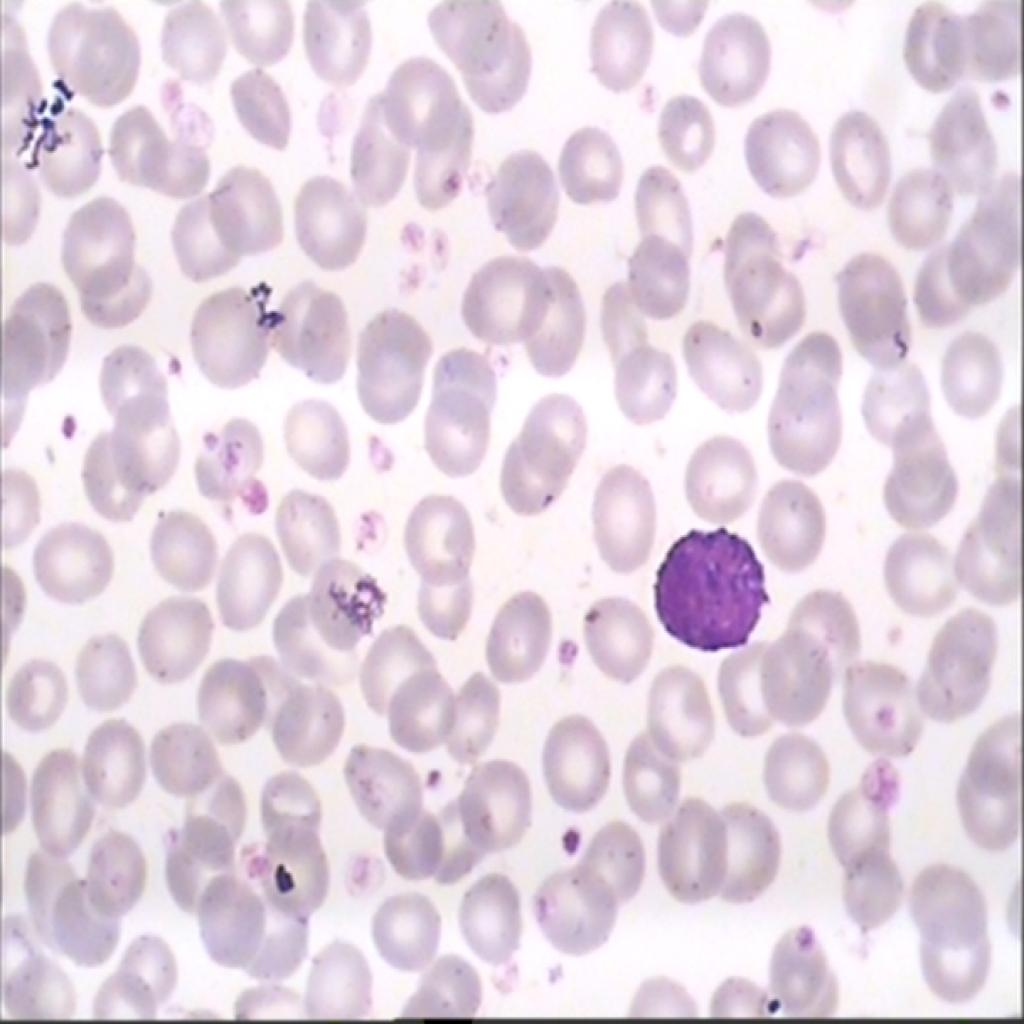Basofil: (647, 512, 774, 676)
Platelet: (412, 747, 450, 807), (543, 633, 582, 690), (354, 508, 384, 564), (239, 474, 269, 524), (148, 70, 183, 110), (193, 421, 225, 464), (398, 249, 425, 299), (388, 208, 420, 249), (155, 334, 186, 374), (559, 823, 587, 864), (242, 834, 266, 878), (56, 409, 86, 439), (786, 912, 810, 949), (428, 226, 450, 249)
